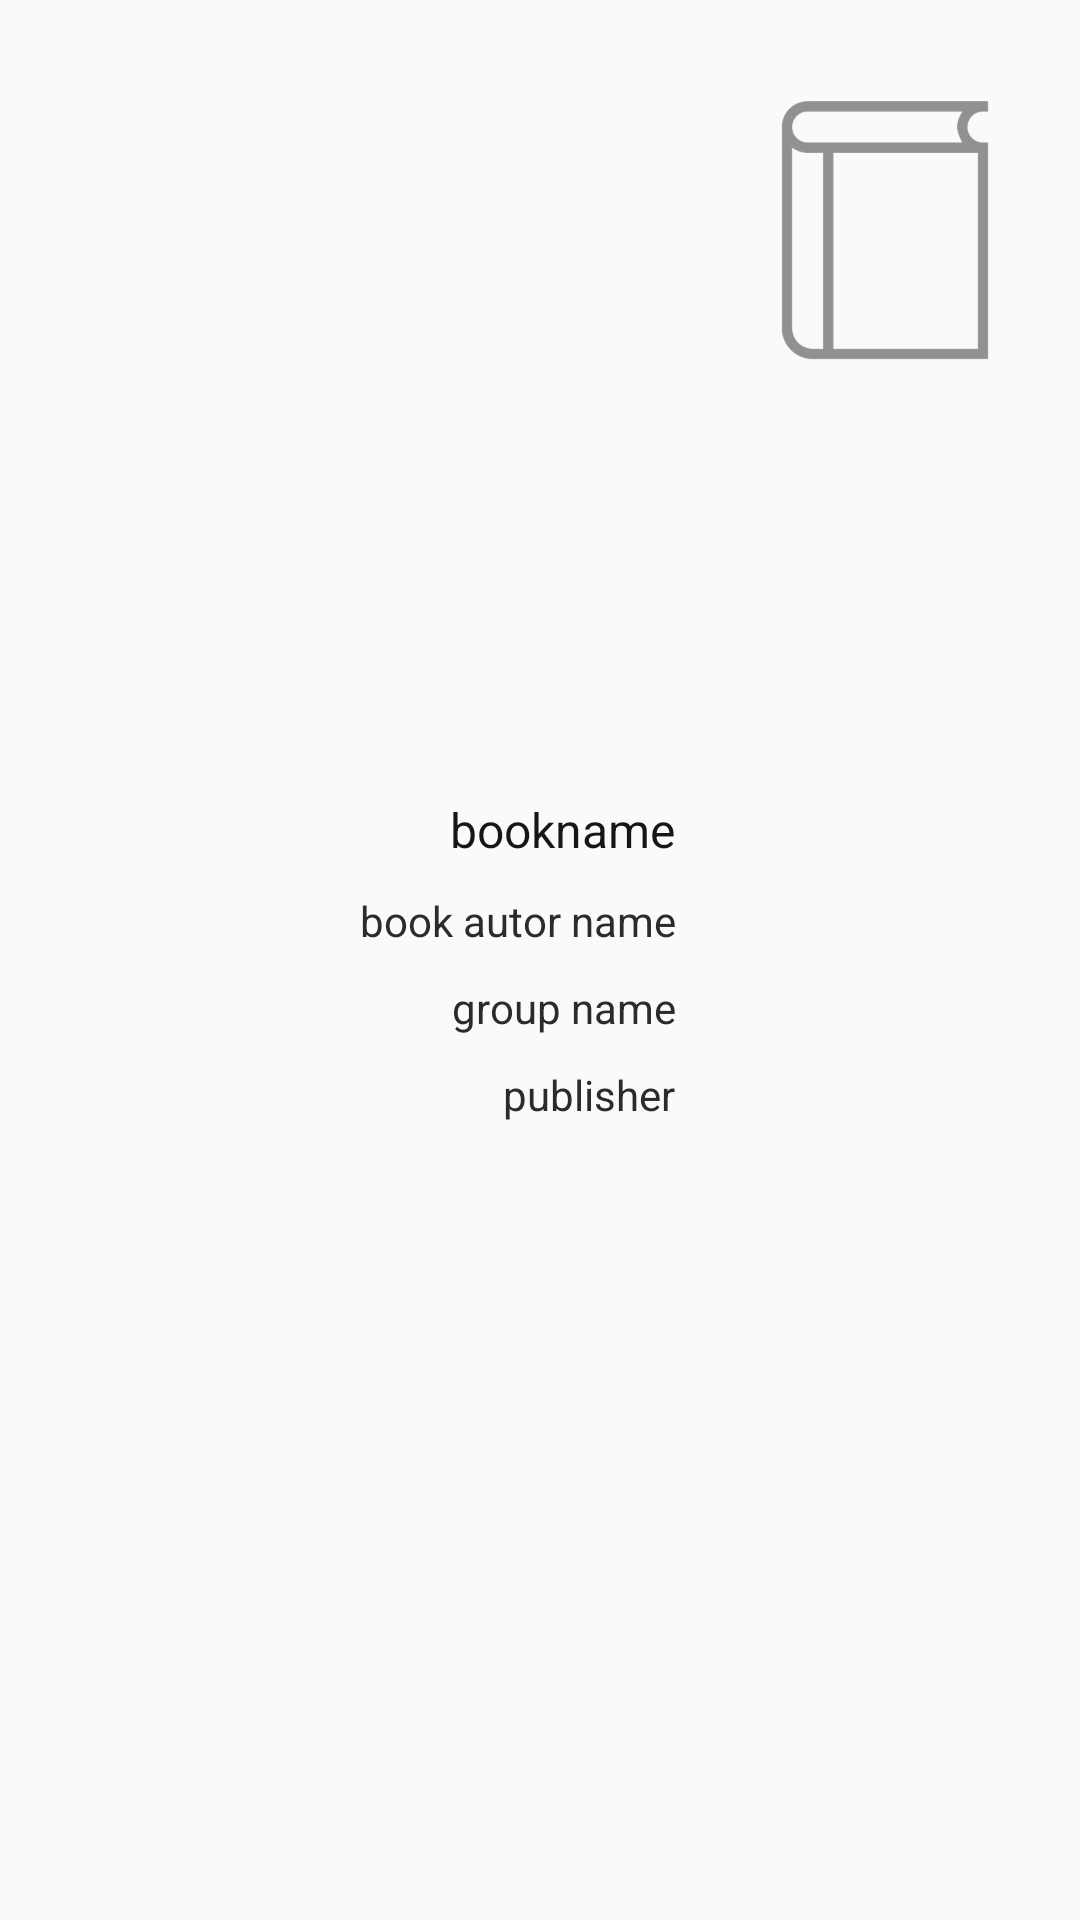

Point at icon controls on the screen. Image size 1080*1920, points as (x=x, y=y).
book: (x=885, y=230)
